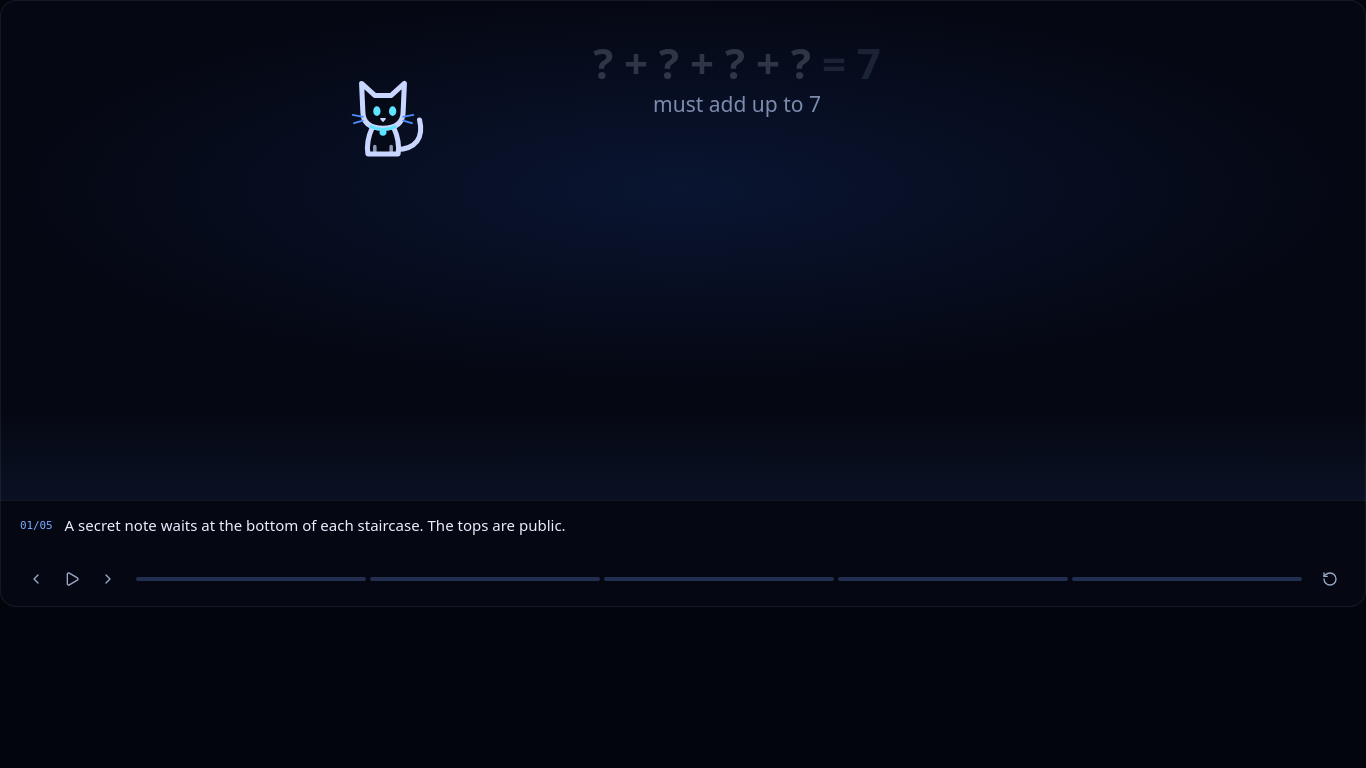
Test: an ELI5 scene › steps forward and back through its captions, by button and keyboard
Click the button named "Next step" at [108, 579], box [92,563,124,595]
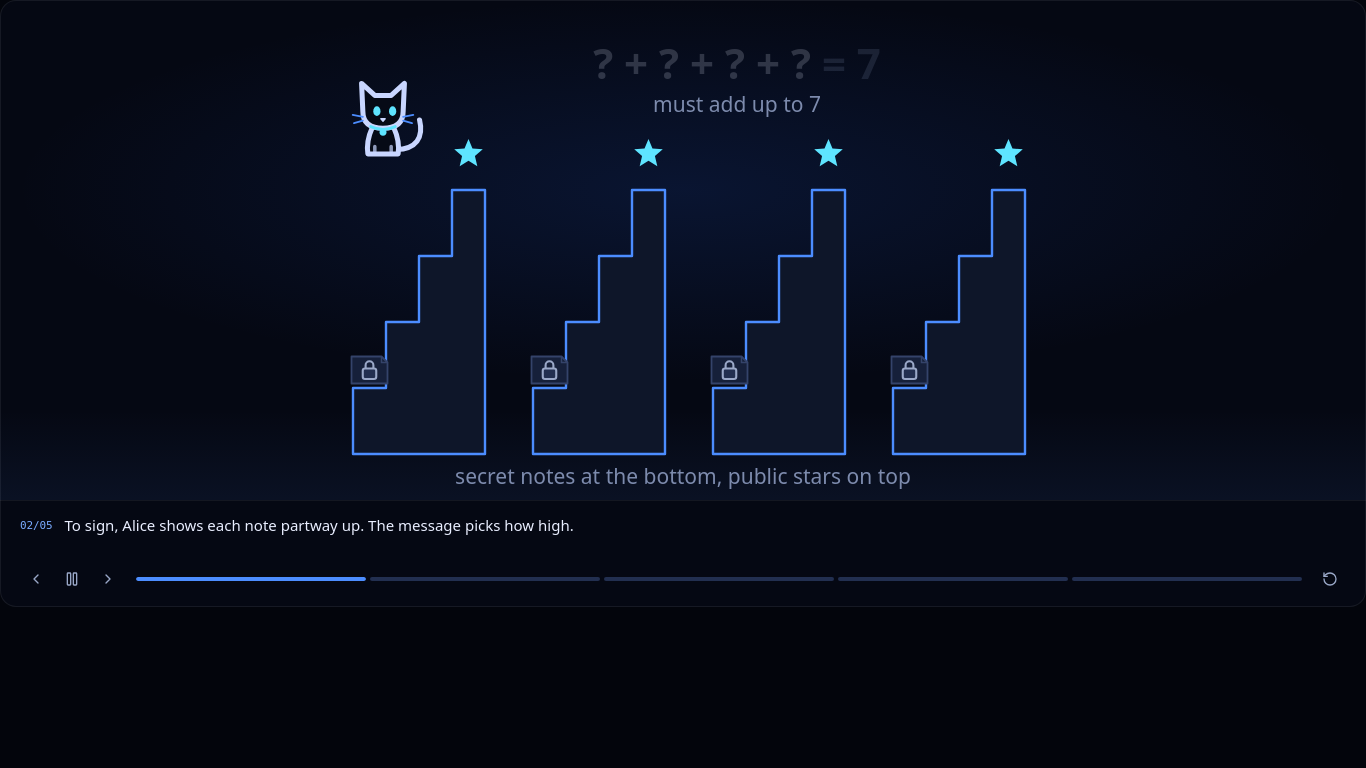
Check: the text "To sign, Alice shows each note partway up. The message picks how high." is shown, box [65,515,574,535]
Press ArrowRight in the element named "? + ? + ? + ? = 7must add up to 7secret notes at the bottom,"
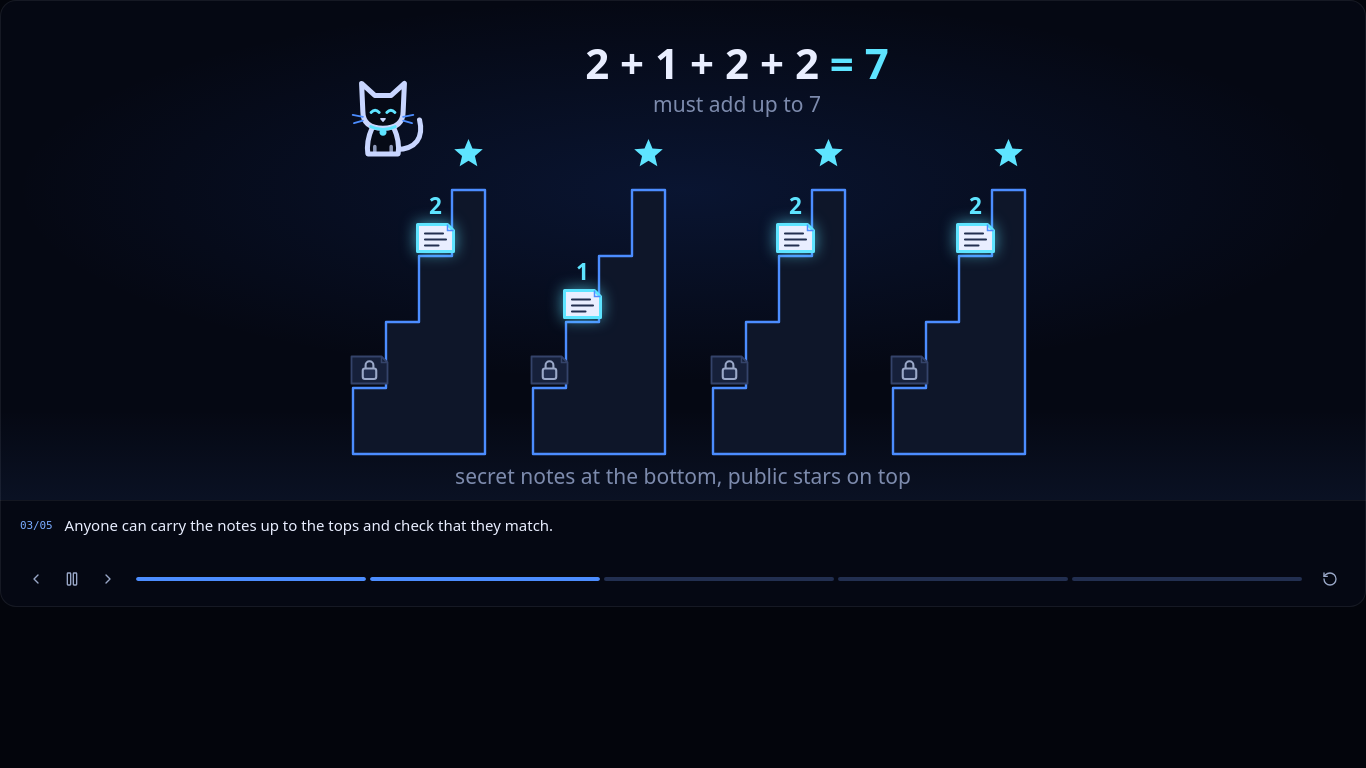
Check: the text "Anyone can carry the notes up to the tops and check that they match." is shown, box [65,515,553,535]
Press ArrowLeft in the element named "2 + 1 + 2 + 2 = 7must add up to 72122secret notes at the bot"
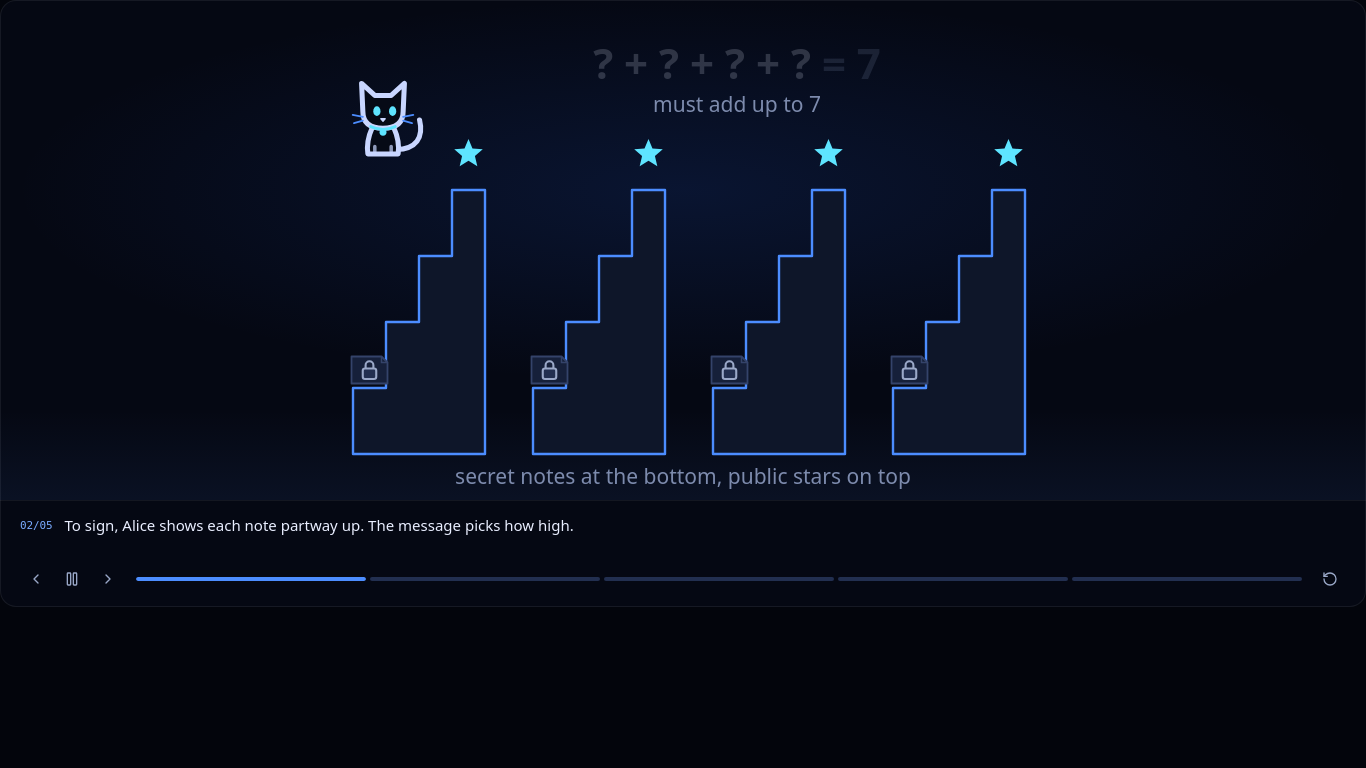
Check: the text "To sign, Alice shows each note partway up. The message picks how high." is shown, box [65,515,574,535]
Click the button named "Step 5 of 5: To get back to 7 he would have to move a note d" at [1187, 579], box [1072,563,1302,595]
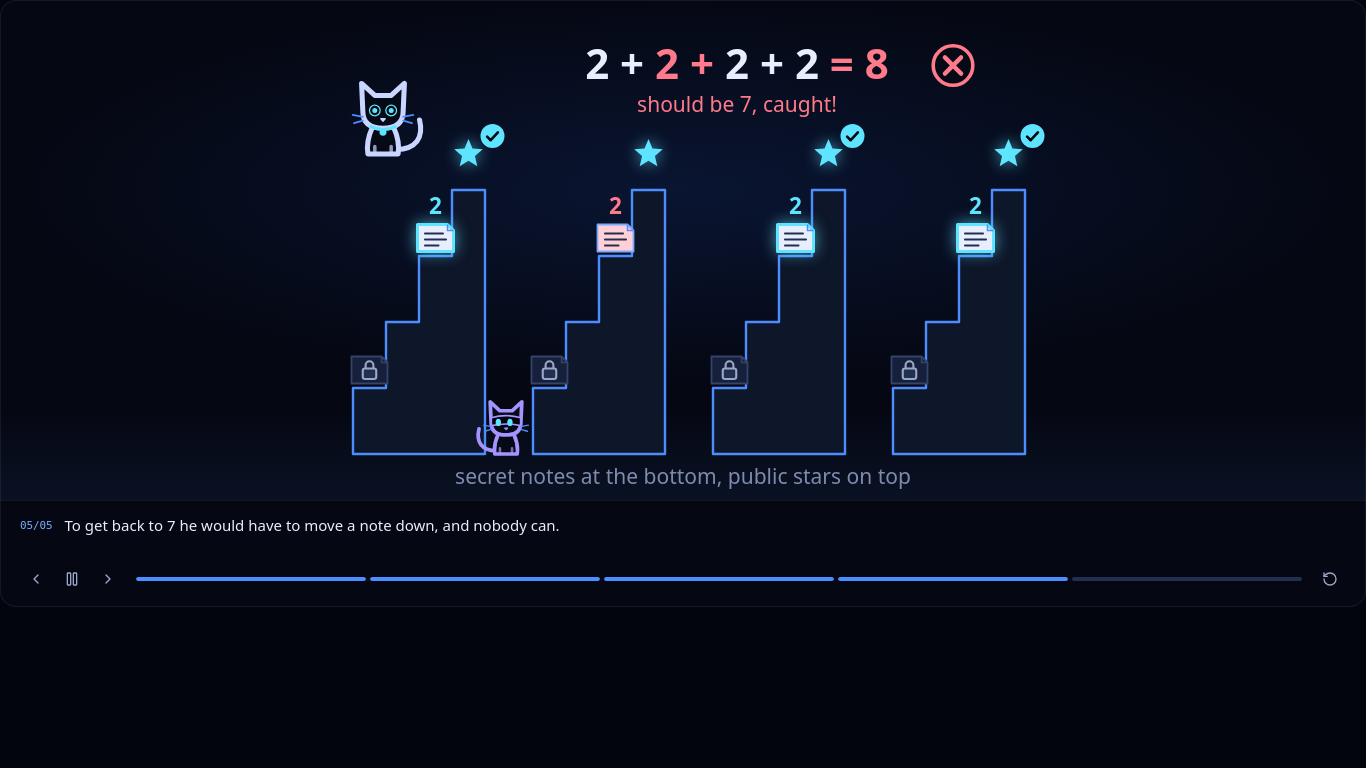
Check: the text "To get back to 7 he would have to move a note down, and nobody can." is shown, box [65,515,560,535]
Click the button named "Pause" at [72, 579], box [56,563,88,595]
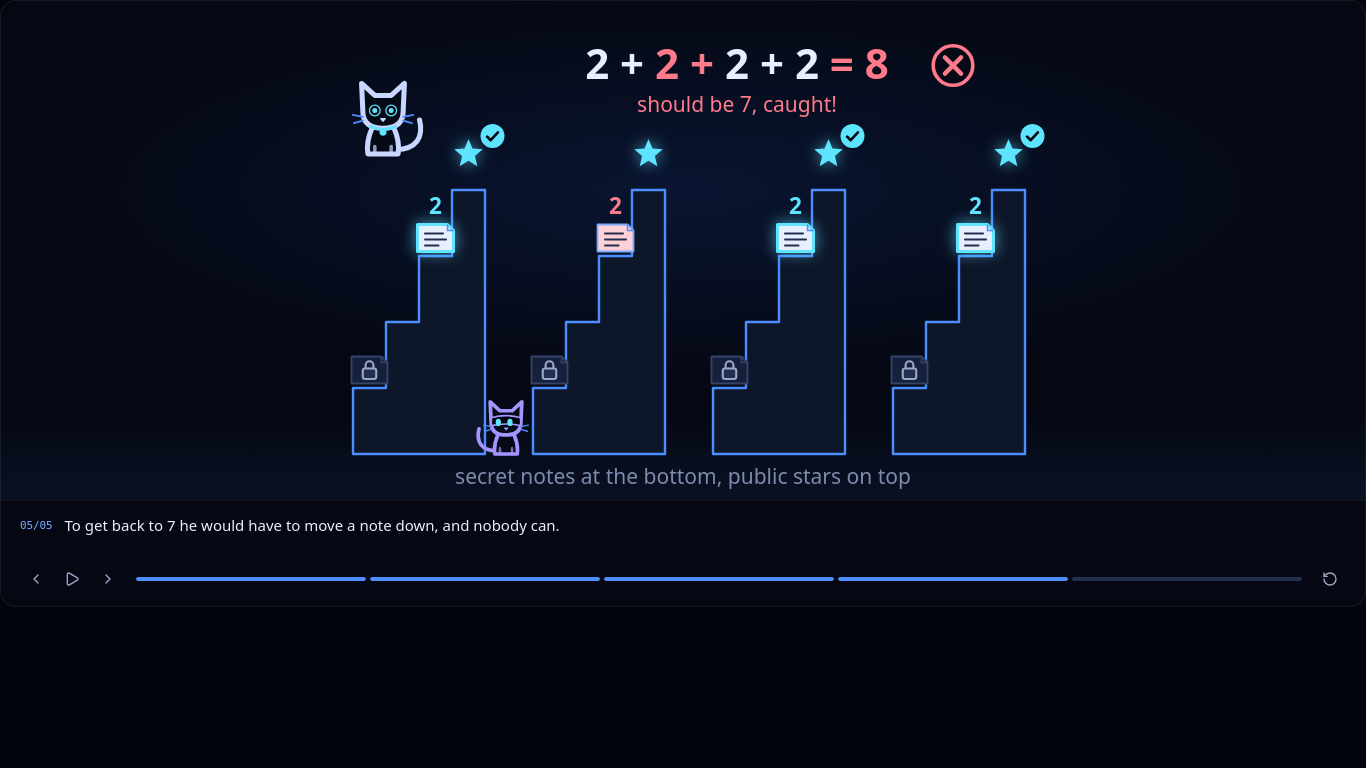
Click the button named "Replay from the start" at [1330, 579], box [1314,563,1346,595]
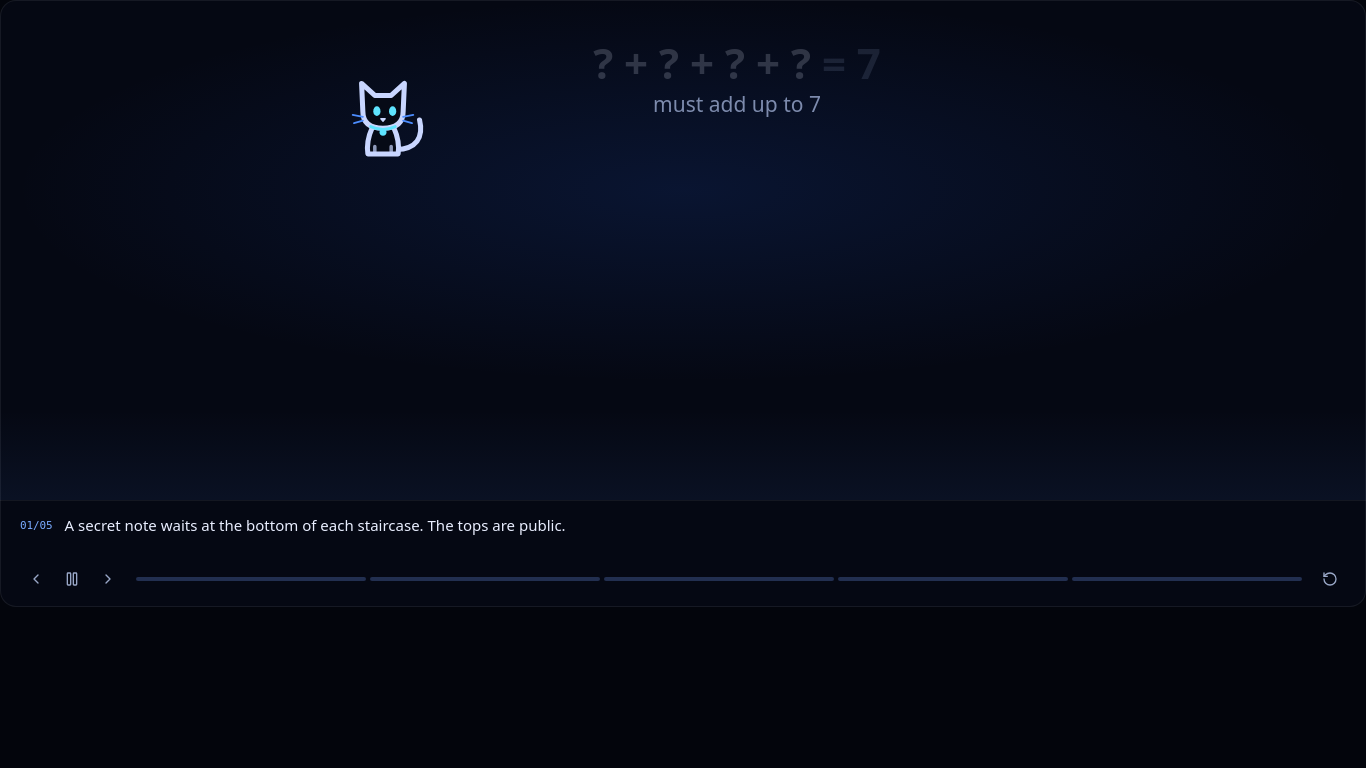
Check: the text "A secret note waits at the bottom of each staircase. The tops are public." is shown, box [65,515,566,535]
